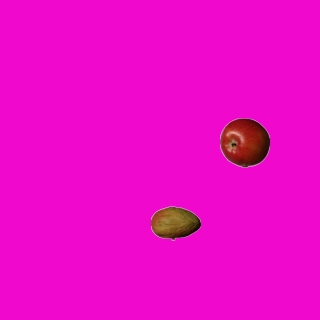Apple Braeburn: (219, 117, 269, 167)
Papaya: (150, 198, 200, 248)
